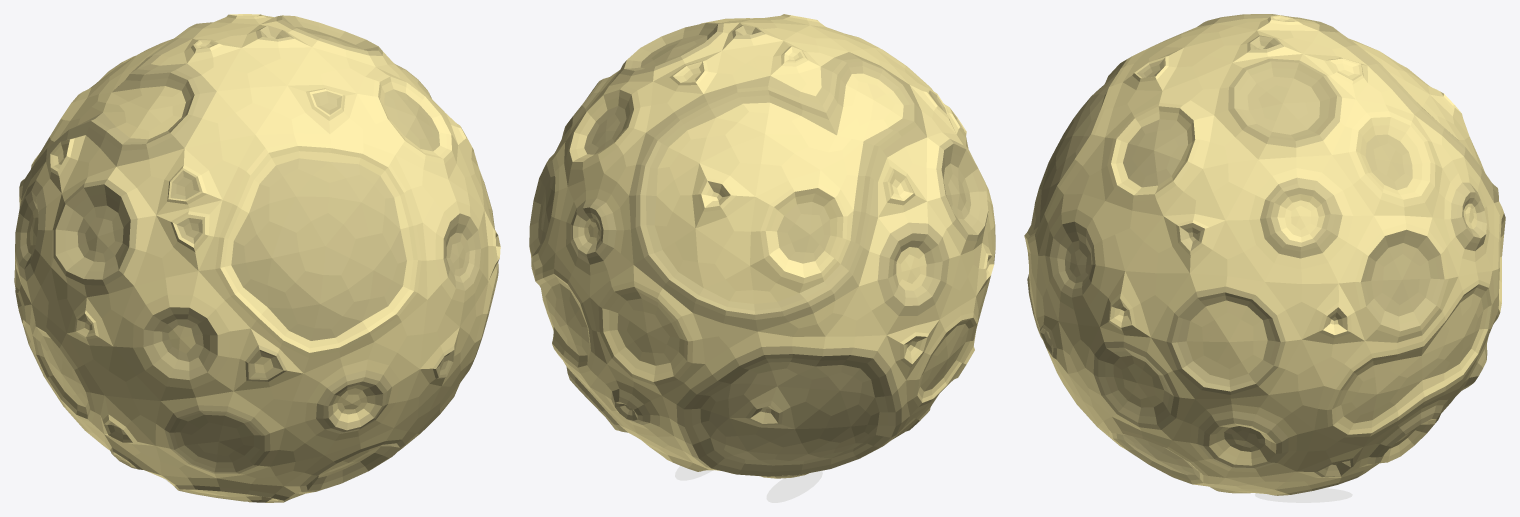
The model's file is Moon_character.fbx.
3 views of the same model, side by side, from view 1: azimuth 30°, elevation 25°; view 2: azimuth 150°, elevation 25°; view 3: azimuth 270°, elevation 25° (orthographic). The views are drawn at different scales.
Parts seen in each view (by area): view 1: Moon; view 2: Moon, Disc_2; view 3: Moon, Disc.
Boxes of the visible parts, box(x1,y1,x2,y2) form: Moon: box(14, 14, 500, 502); Moon: box(529, 14, 995, 478); Disc_2: box(766, 470, 822, 502); Moon: box(1024, 14, 1505, 495); Disc: box(1255, 488, 1352, 502).
Size of the model in its own units: 75 by 75.99 by 75.16.
